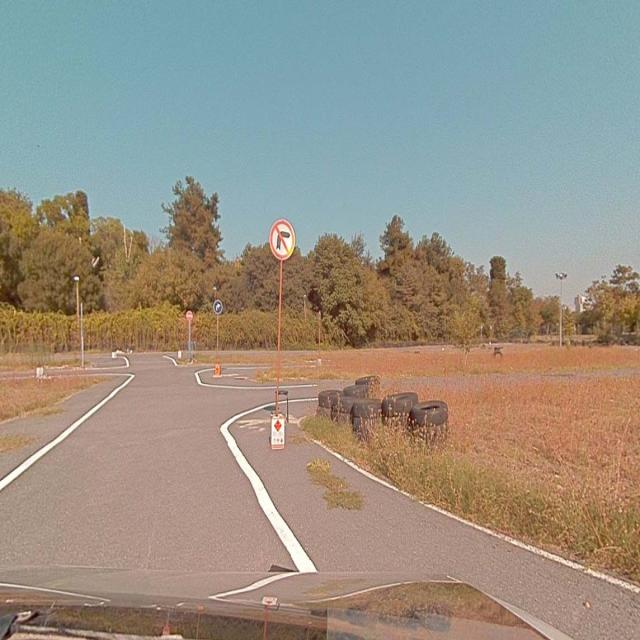girisyok: (186, 310, 192, 320)
sag: (213, 299, 222, 313)
sagadonulmez: (268, 218, 296, 258)
